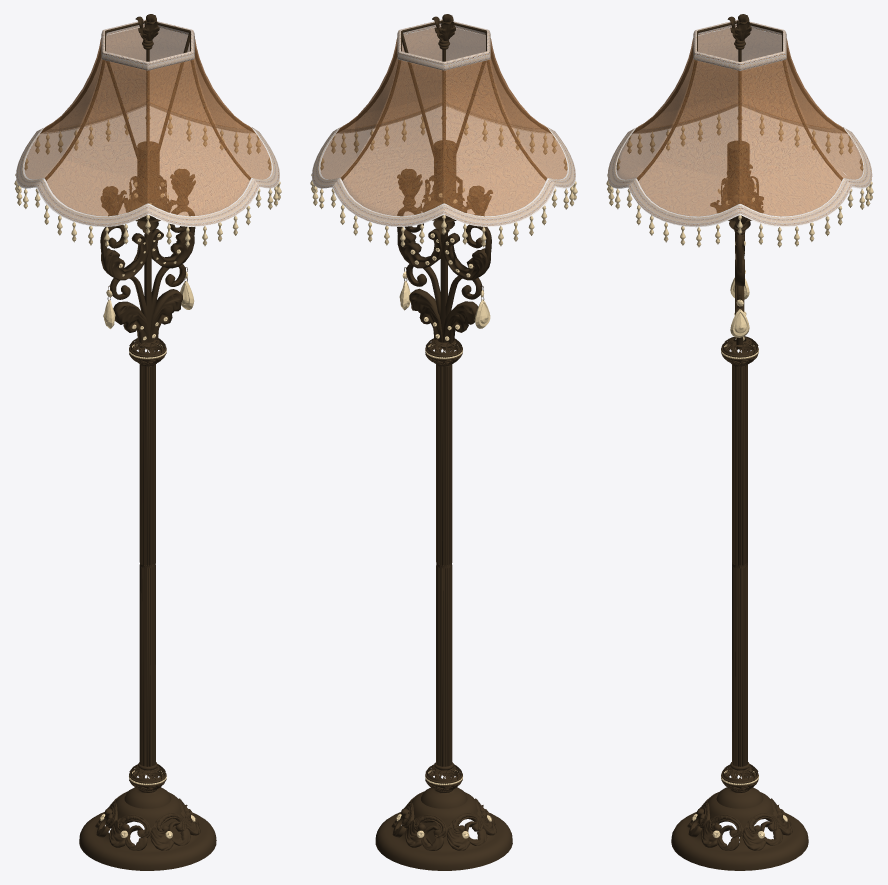
The model's file is classic-floor-lamp.glb.
The picture shows the model from 3 angles, left to right: view 1: azimuth 30°, elevation 25°; view 2: azimuth 150°, elevation 25°; view 3: azimuth 270°, elevation 25°; orthographic projection.
Parts seen in each view (by area): view 1: sub, Floor_Lamp02.0, Floor_Lamp02.1, Floor_Lamp02.2, Floor_Lamp02.5, Floor_Lamp02.3, Floor_Lamp02.4; view 2: sub, Floor_Lamp02.0, Floor_Lamp02.1, Floor_Lamp02.2, Floor_Lamp02.5, Floor_Lamp02.3, Floor_Lamp02.4; view 3: sub, Floor_Lamp02.0, Floor_Lamp02.1, Floor_Lamp02.5, Floor_Lamp02.2, Floor_Lamp02.3, Floor_Lamp02.4.
Boxes of the visible parts, <box> form: sub: <box>24,26,271,216</box>; Floor_Lamp02.0: <box>40,21,255,870</box>; Floor_Lamp02.1: <box>101,228,194,766</box>; Floor_Lamp02.2: <box>95,14,200,850</box>; Floor_Lamp02.5: <box>16,19,279,226</box>; Floor_Lamp02.3: <box>14,114,281,838</box>; Floor_Lamp02.4: <box>16,106,279,226</box>; sub: <box>320,26,567,216</box>; Floor_Lamp02.0: <box>336,20,551,870</box>; Floor_Lamp02.1: <box>397,228,490,766</box>; Floor_Lamp02.2: <box>391,14,496,850</box>; Floor_Lamp02.5: <box>312,19,575,226</box>; Floor_Lamp02.3: <box>310,116,577,838</box>; Floor_Lamp02.4: <box>312,106,575,226</box>; sub: <box>616,26,863,216</box>; Floor_Lamp02.0: <box>632,21,847,870</box>; Floor_Lamp02.1: <box>732,232,747,766</box>; Floor_Lamp02.5: <box>607,19,872,226</box>; Floor_Lamp02.2: <box>687,14,792,850</box>; Floor_Lamp02.3: <box>606,114,873,838</box>; Floor_Lamp02.4: <box>609,106,871,227</box>.
Bounding box in the file's own units: 0.567 × 1.95 × 0.5743.
7 materials, 2 textured.
